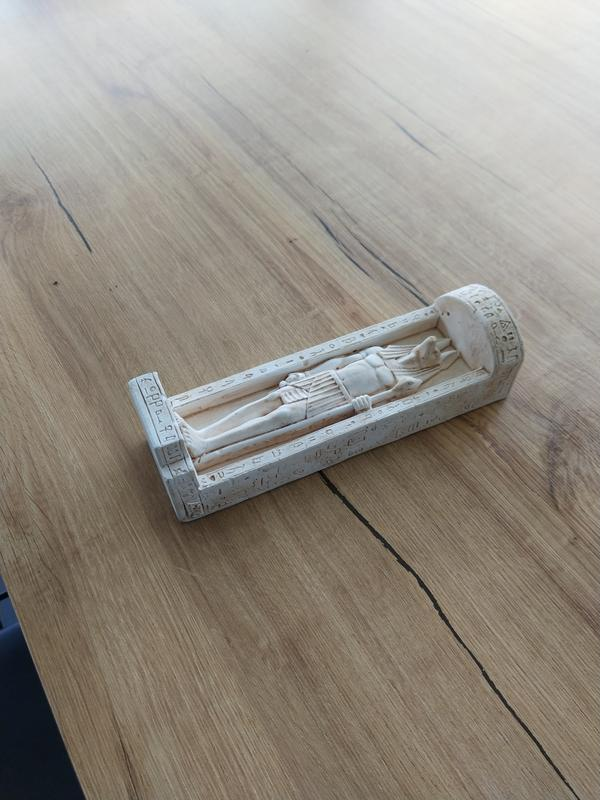heykel: (121, 279, 532, 530)
